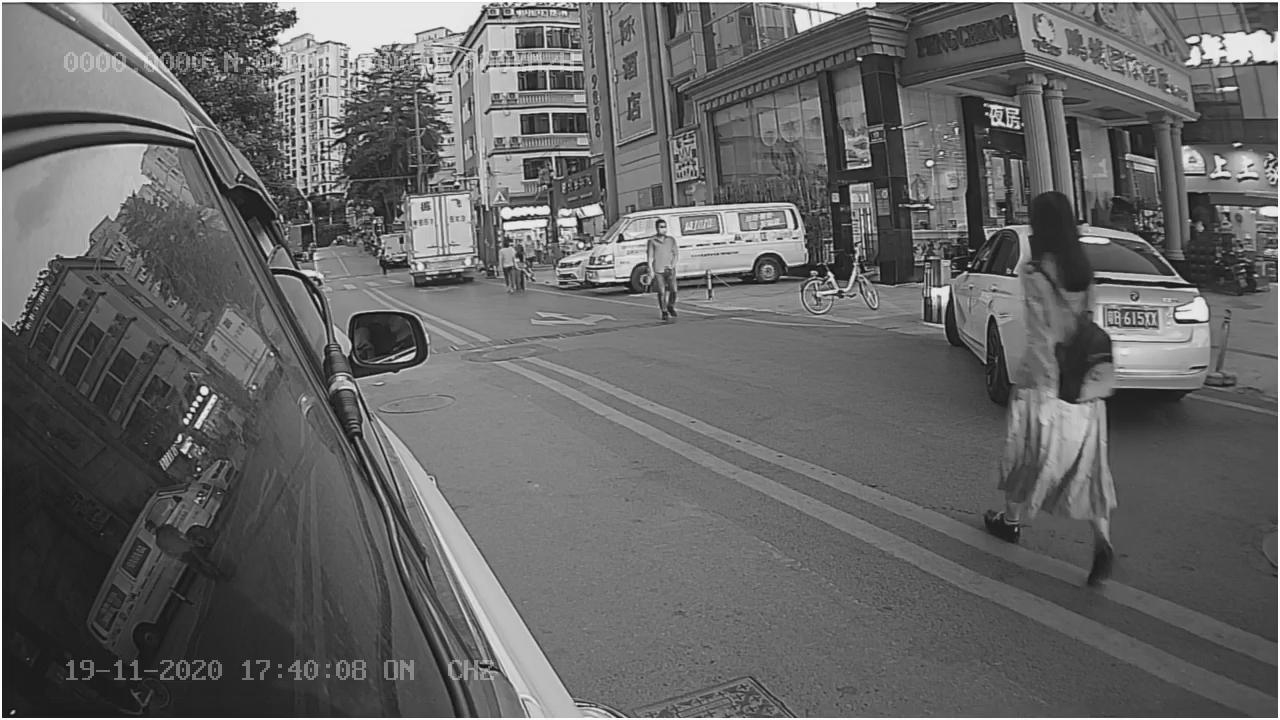person: (981, 195, 1142, 594)
